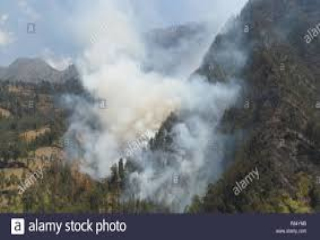smoke: (158, 68, 253, 204)
